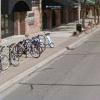Bicycle: (1, 33, 60, 68)
